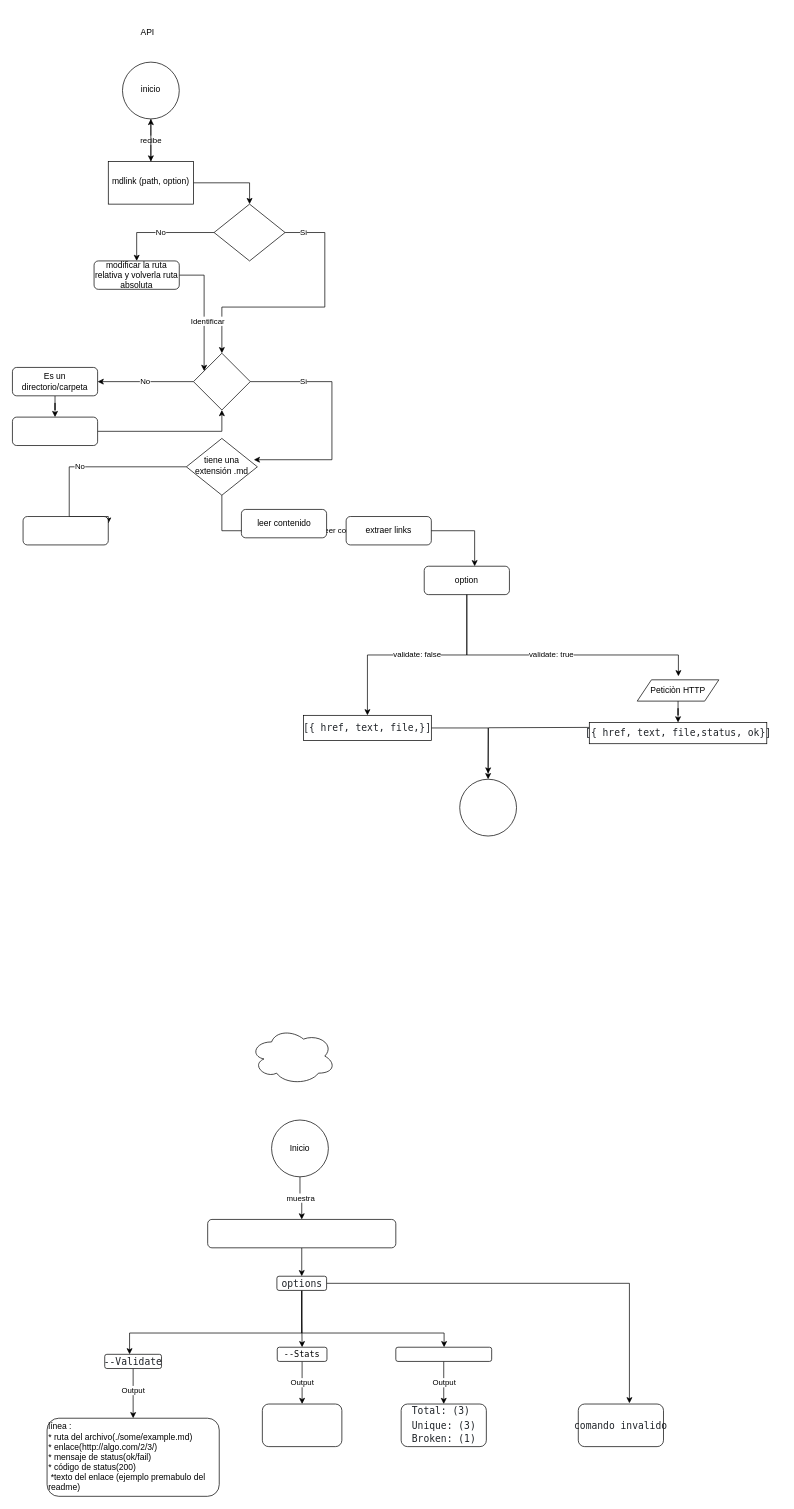
This 794x1509 diagram has some shape labels left out. Here are the shapes that lost their labels. From the top down, the box of each, then its label:
(213, 203, 285, 261): la ruta es absoluta?
(193, 353, 250, 410): es un archivo?
(12, 416, 98, 446): hacer el proceso con cada archivo
(22, 516, 108, 545): message.error
(459, 779, 517, 836): Final
(250, 1027, 335, 1085): CLI
(207, 1219, 396, 1248): md-links <path-to-file> [options]
(395, 1347, 492, 1361): stats y validate
(262, 1403, 342, 1447): Total:(5) Unique: (2)
